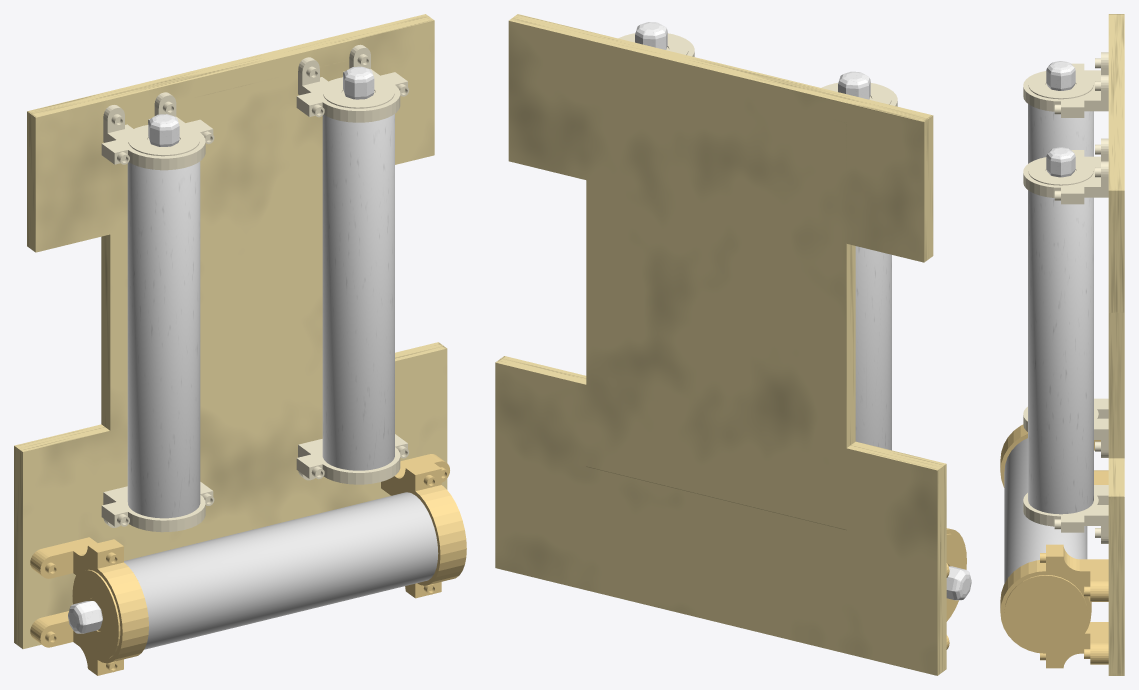
File: Neutron Spectrometer.fbx
3 views of the same model, side by side, from view 1: azimuth 30°, elevation 25°; view 2: azimuth 150°, elevation 25°; view 3: azimuth 270°, elevation 25° (orthographic). The views are drawn at different scales.
Visible parts, largest first — view 1: Cube.002, Cylinder, Cylinder.001, Cylinder.002, Cylinder.005, Cylinder.010, Cube.001, Cube.004, Cube.005, Cube.003, Cylinder.003, Cylinder.008 (+1 smaller); view 2: Cube.002, Cylinder.001, Cylinder.005, Cylinder.007, Cylinder.008, Cylinder.003; view 3: Cylinder.002, Cube.002, Cylinder.010, Cylinder, Cube.004, Cube.001, Cylinder.001, Cube.005, Cube.003, Cylinder.005, Cylinder.008, Cylinder.007.
Part boxes in pixels (x1,y1,x2,y2): Cube.002: (14, 14, 447, 648); Cylinder: (124, 492, 438, 649); Cylinder.001: (127, 161, 200, 518); Cylinder.002: (322, 114, 394, 470); Cylinder.005: (30, 537, 148, 675); Cylinder.010: (381, 454, 466, 598); Cube.001: (101, 92, 214, 170); Cube.004: (296, 44, 409, 122); Cube.005: (296, 434, 409, 484); Cube.003: (101, 482, 214, 532); Cylinder.003: (68, 601, 102, 633); Cylinder.008: (343, 66, 374, 99); Cube.002: (495, 14, 946, 675); Cylinder.001: (855, 246, 891, 450); Cylinder.005: (946, 528, 966, 649); Cylinder.007: (838, 71, 870, 99); Cylinder.008: (635, 22, 667, 49); Cylinder.003: (946, 566, 971, 600); Cylinder.002: (1028, 190, 1093, 514); Cube.002: (1108, 14, 1124, 675); Cylinder.010: (1000, 544, 1108, 668); Cylinder: (1004, 438, 1087, 583); Cube.004: (1023, 138, 1108, 204); Cube.001: (1023, 52, 1108, 117); Cylinder.001: (1028, 104, 1093, 163); Cube.005: (1023, 485, 1108, 543); Cube.003: (1023, 398, 1108, 457); Cylinder.005: (1000, 424, 1108, 487); Cylinder.008: (1046, 147, 1075, 177); Cylinder.007: (1046, 61, 1075, 90).
Bounding box in the file's own units: 436 × 529 × 122.
5 materials, 5 textured.
